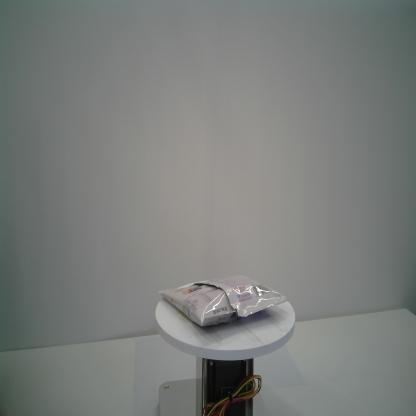Instant Drink: (158, 275, 289, 327)
